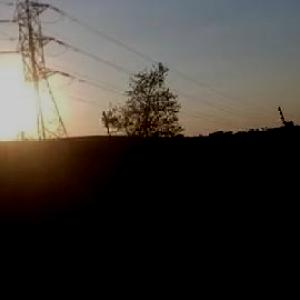follow: (147, 139, 219, 299)
